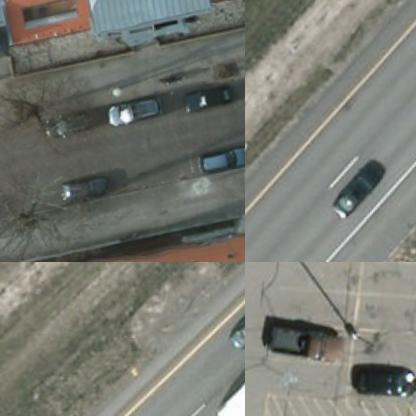car: (326, 164, 378, 226), (346, 369, 412, 405), (38, 102, 87, 149), (103, 93, 156, 131), (178, 82, 230, 119), (192, 144, 244, 180), (223, 287, 244, 365), (56, 169, 106, 201)
pickup: (261, 319, 339, 372)
